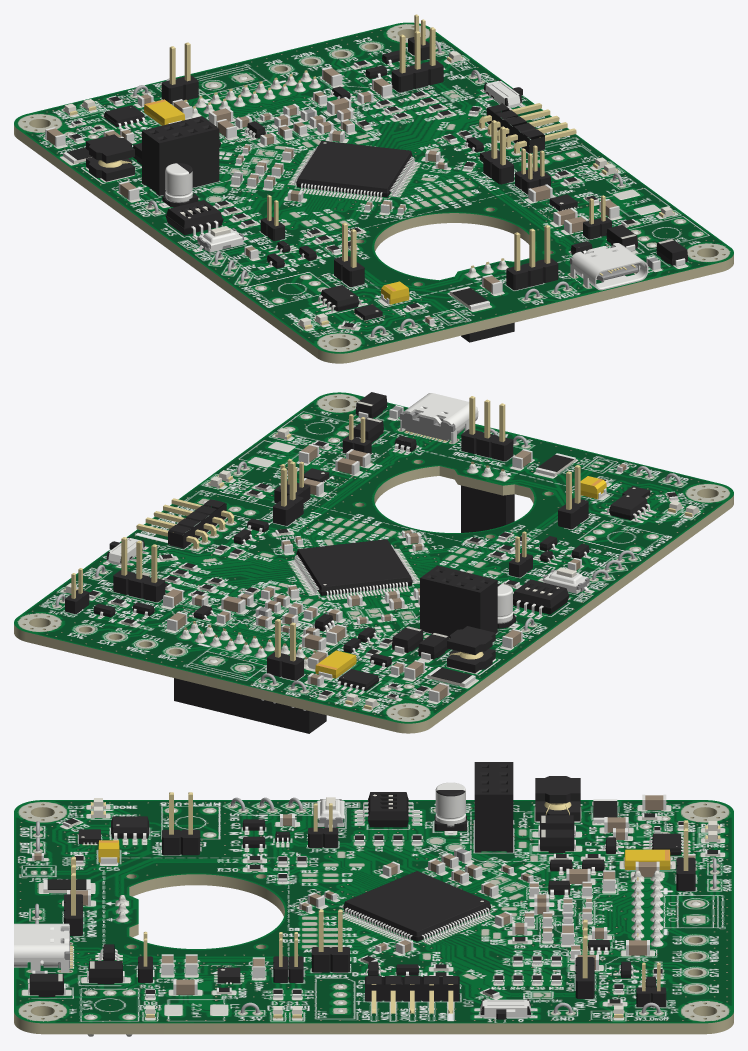
The model's file is armi-pcb-mobile.glb.
The picture shows the model from 3 angles, top to bottom: view 1: azimuth 30°, elevation 25°; view 2: azimuth 150°, elevation 25°; view 3: azimuth 270°, elevation 25°; orthographic projection. The views are drawn at different scales.
Parts seen in each view (by area): view 1: PCB_260513_pcb2blender, LQFP-100_14x14mm_P0.5mm, PinSocket_2x04_P2.54mm_Vertical, PinHeader_1x05_P2.54mm_Horizontal, USB_C_Receptacle_GCT_USB4105-xx-A_16P_TopMnt_Horizontal, PinHeader_1x03_P2.54mm_Vertical.001, PinHeader_1x03_P2.54mm_Vertical, L_Bourns_SRN6045TA, SW_DIP_SPSTx04_Slide_KingTek_DSHP04TS_W7.62mm_P1.27mm, PinHeader_1x02_P2.54mm_Vertical.002, CP_Elec_4x5.4, PinHeader_1x02_P2.54mm_Vertical (+11 smaller); view 2: PCB_260513_pcb2blender, LQFP-100_14x14mm_P0.5mm, PinSocket_2x04_P2.54mm_Vertical, PinSocket_2x09_P2.54mm_Vertical, PinHeader_1x05_P2.54mm_Horizontal, USB_C_Receptacle_GCT_USB4105-xx-A_16P_TopMnt_Horizontal, PinSocket_1x03_P2.54mm_Vertical, PinHeader_1x03_P2.54mm_Vertical.001, PinHeader_1x03_P2.54mm_Vertical, L_Bourns_SRN6045TA, SW_DIP_SPSTx04_Slide_KingTek_DSHP04TS_W7.62mm_P1.27mm, PinHeader_1x02_P2.54mm_Vertical.002 (+16 smaller); view 3: PCB_260513_pcb2blender, LQFP-100_14x14mm_P0.5mm, PinSocket_2x04_P2.54mm_Vertical, PinHeader_1x05_P2.54mm_Horizontal, USB_C_Receptacle_GCT_USB4105-xx-A_16P_TopMnt_Horizontal, L_Bourns_SRN6045TA, SW_DIP_SPSTx04_Slide_KingTek_DSHP04TS_W7.62mm_P1.27mm, CP_Elec_4x5.4, PinHeader_1x02_P2.54mm_Vertical, PinHeader_1x02_P2.54mm_Vertical.001, PinHeader_1x03_P2.54mm_Vertical, SW_SPDT_PCM12 (+18 smaller).
Boxes of the visible parts, bbox=[...] form: PCB_260513_pcb2blender: bbox=[14, 22, 733, 363]; LQFP-100_14x14mm_P0.5mm: bbox=[291, 140, 417, 200]; PinSocket_2x04_P2.54mm_Vertical: bbox=[142, 116, 219, 195]; PinHeader_1x05_P2.54mm_Horizontal: bbox=[479, 103, 576, 153]; USB_C_Receptacle_GCT_USB4105-xx-A_16P_TopMnt_Horizontal: bbox=[570, 243, 648, 290]; PinHeader_1x03_P2.54mm_Vertical.001: bbox=[506, 225, 558, 290]; PinHeader_1x03_P2.54mm_Vertical: bbox=[391, 27, 443, 92]; L_Bourns_SRN6045TA: bbox=[86, 134, 134, 181]; SW_DIP_SPSTx04_Slide_KingTek_DSHP04TS_W7.62mm_P1.27mm: bbox=[165, 200, 223, 238]; PinHeader_1x02_P2.54mm_Vertical.002: bbox=[161, 42, 198, 103]; CP_Elec_4x5.4: bbox=[161, 163, 198, 207]; PinHeader_1x02_P2.54mm_Vertical: bbox=[483, 120, 513, 184]; PCB_260513_pcb2blender: bbox=[14, 392, 733, 733]; LQFP-100_14x14mm_P0.5mm: bbox=[291, 539, 417, 598]; PinSocket_2x04_P2.54mm_Vertical: bbox=[420, 565, 497, 637]; PinSocket_2x09_P2.54mm_Vertical: bbox=[174, 621, 326, 733]; PinHeader_1x05_P2.54mm_Horizontal: bbox=[136, 498, 234, 549]; USB_C_Receptacle_GCT_USB4105-xx-A_16P_TopMnt_Horizontal: bbox=[400, 393, 478, 443]; PinSocket_1x03_P2.54mm_Vertical: bbox=[461, 461, 514, 532]; PinHeader_1x03_P2.54mm_Vertical.001: bbox=[461, 396, 513, 461]; PinHeader_1x03_P2.54mm_Vertical: bbox=[113, 537, 165, 602]; L_Bourns_SRN6045TA: bbox=[447, 626, 495, 673]; SW_DIP_SPSTx04_Slide_KingTek_DSHP04TS_W7.62mm_P1.27mm: bbox=[513, 579, 569, 617]; PinHeader_1x02_P2.54mm_Vertical.002: bbox=[267, 619, 303, 680]; PCB_260513_pcb2blender: bbox=[14, 800, 733, 1034]; LQFP-100_14x14mm_P0.5mm: bbox=[342, 871, 492, 942]; PinSocket_2x04_P2.54mm_Vertical: bbox=[474, 762, 513, 852]; PinHeader_1x05_P2.54mm_Horizontal: bbox=[365, 976, 459, 1013]; USB_C_Receptacle_GCT_USB4105-xx-A_16P_TopMnt_Horizontal: bbox=[14, 923, 72, 972]; L_Bourns_SRN6045TA: bbox=[535, 776, 580, 821]; SW_DIP_SPSTx04_Slide_KingTek_DSHP04TS_W7.62mm_P1.27mm: bbox=[357, 792, 419, 827]; CP_Elec_4x5.4: bbox=[434, 782, 466, 833]; PinHeader_1x02_P2.54mm_Vertical: bbox=[311, 909, 349, 972]; PinHeader_1x02_P2.54mm_Vertical.001: bbox=[162, 792, 200, 855]; PinHeader_1x03_P2.54mm_Vertical: bbox=[575, 919, 594, 998]; SW_SPDT_PCM12: bbox=[476, 999, 534, 1019].
Bounding box in the file's own units: 0.0698 × 0.0186 × 0.0952.
Materials: 29 (2 with a texture image).
